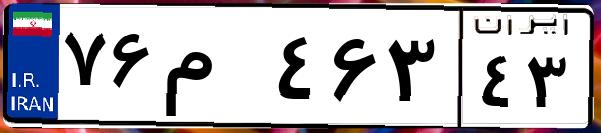3: (385, 28, 445, 110), (525, 38, 570, 115)
4: (270, 28, 330, 110), (475, 38, 525, 113)
6: (330, 28, 385, 110), (110, 28, 158, 98)
7: (57, 26, 110, 100)
م: (158, 20, 270, 120)
